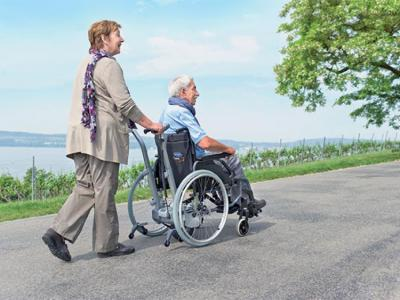push_wheelchair: (42, 19, 163, 261)
wheelchair: (127, 76, 266, 247)
